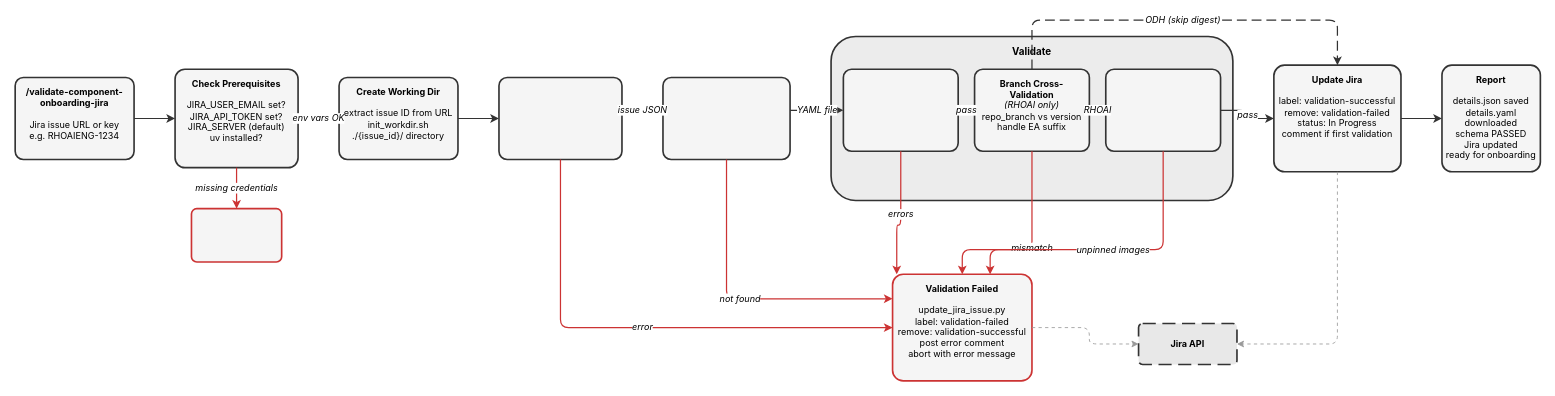
Image size: 1555x396. Some labels were removed from this diagram. The shapes that lost their labels are listed below. From the top down, each one's centre as x and y in pixels, then its label:
At point 560,118: "Fetch Jira Details fetch_jira_details.py save issue JSON locally details.json".
At point 726,118: "Download YAML download_jira_attachment.py details.yaml from issue attachments".
At point 900,110: "Schema Validation validate_yaml_schema.py JSON Schema check field-level errors".
At point 1163,110: "Dockerfile Digest Check (RHOAI only) all FROM pin @sha256 fetch from GitHub".
At point 236,234: "Stop tell user to set env vars".
